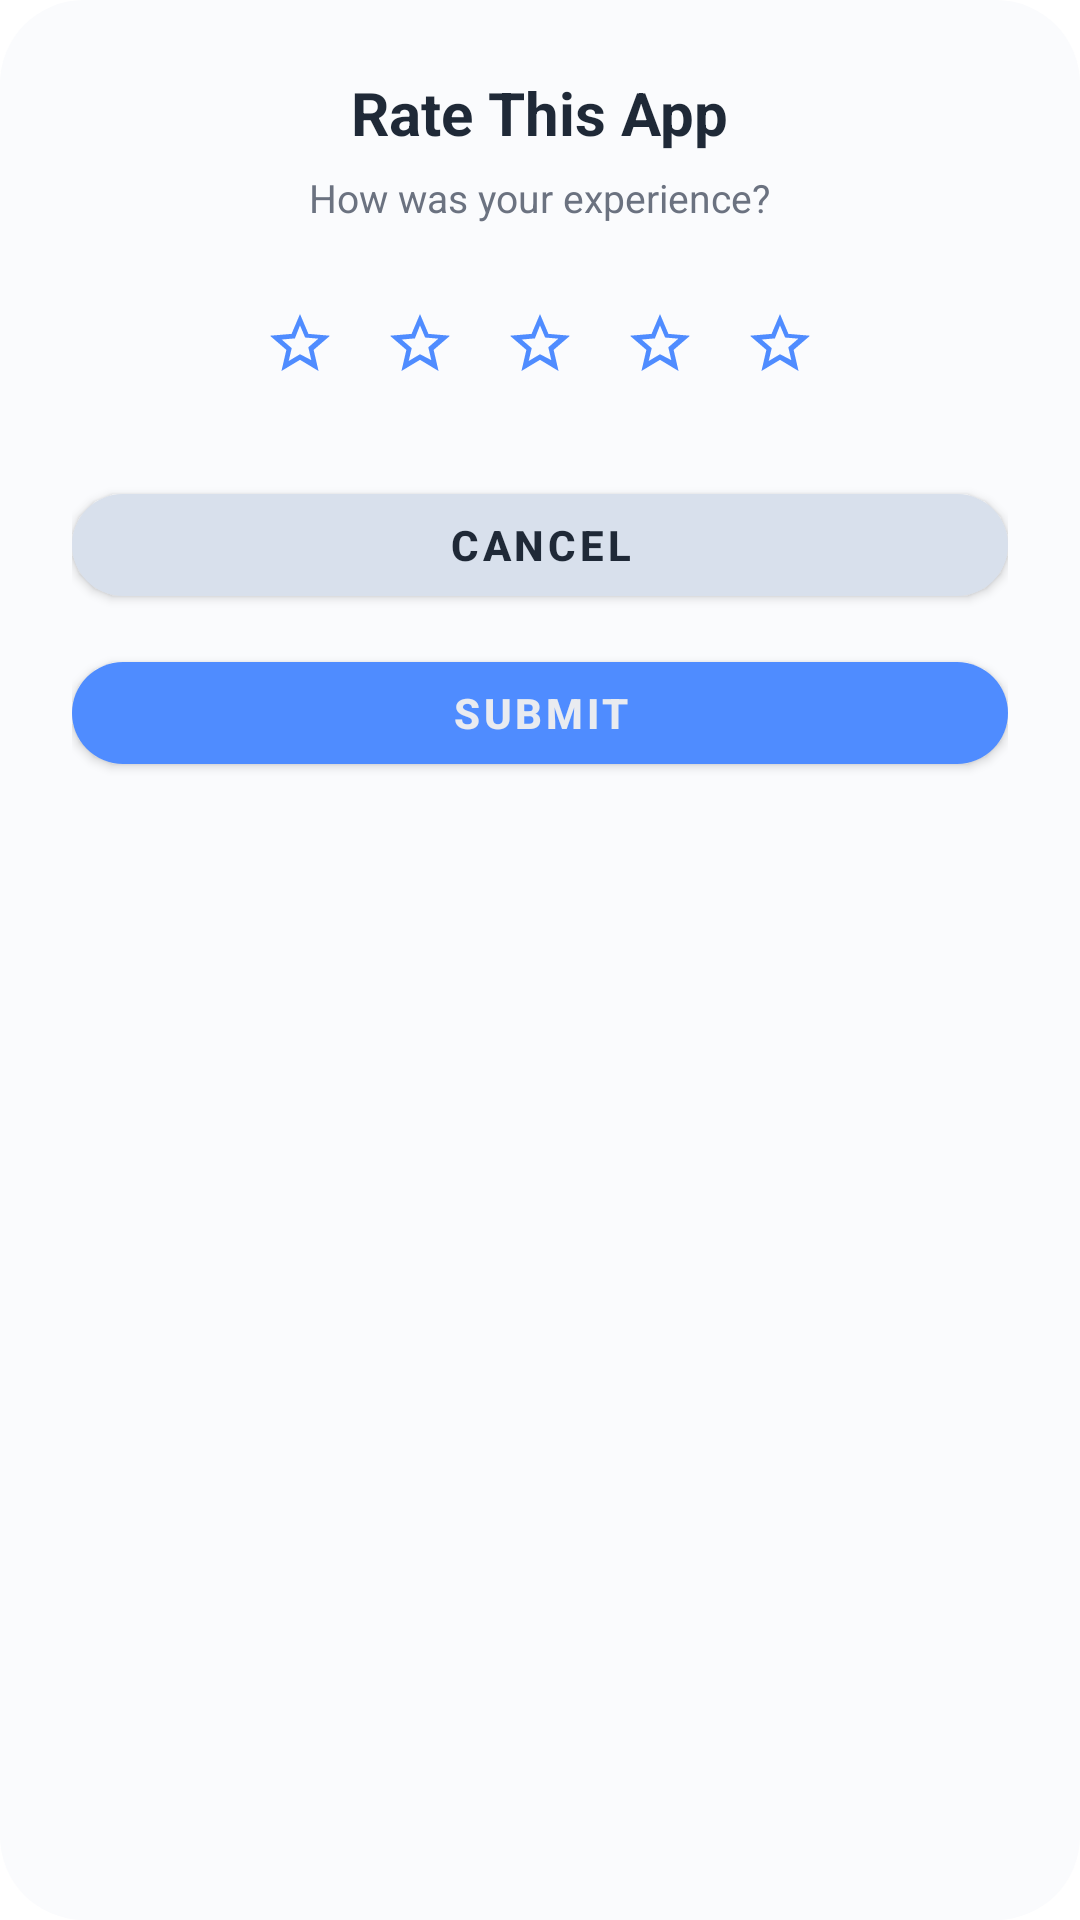

Icon click points for this 1080×1920 phone screenshot, format [x,y]:
star: [300,342], [420,342], [540,342], [660,342], [780,342]
